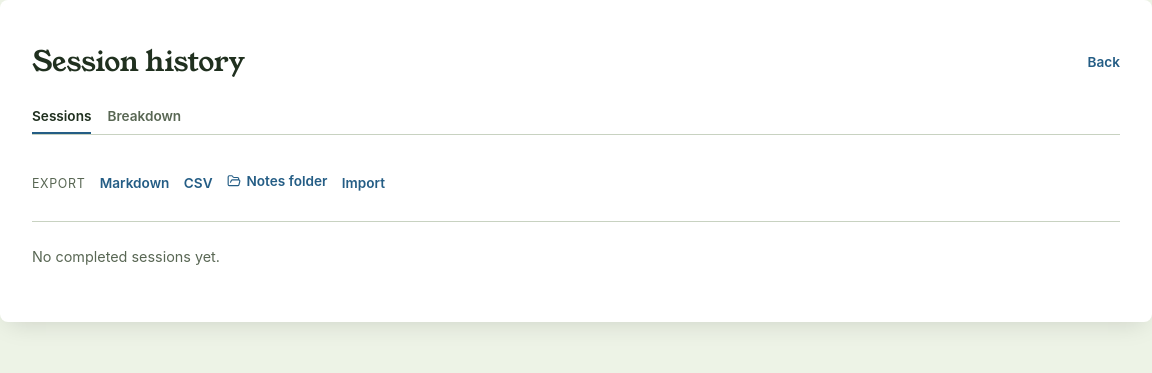
Test: History import › reports contained failures in the success summary
Click the button "Import": [363, 183] box [342,161,385,205]
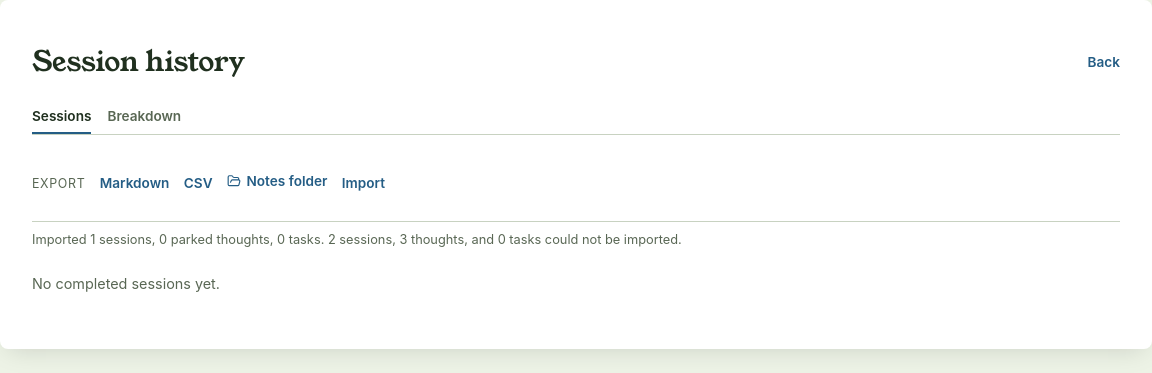
Now the text "2 sessions, 3 thoughts, and 0 tasks could not be imported." is shown, box [32,232,682,247]
